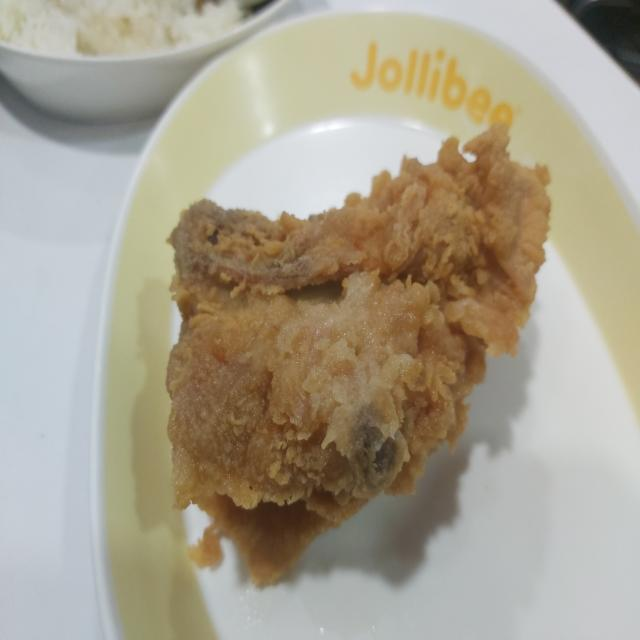Chicken -Fried Chicken-: (122, 96, 567, 607)
